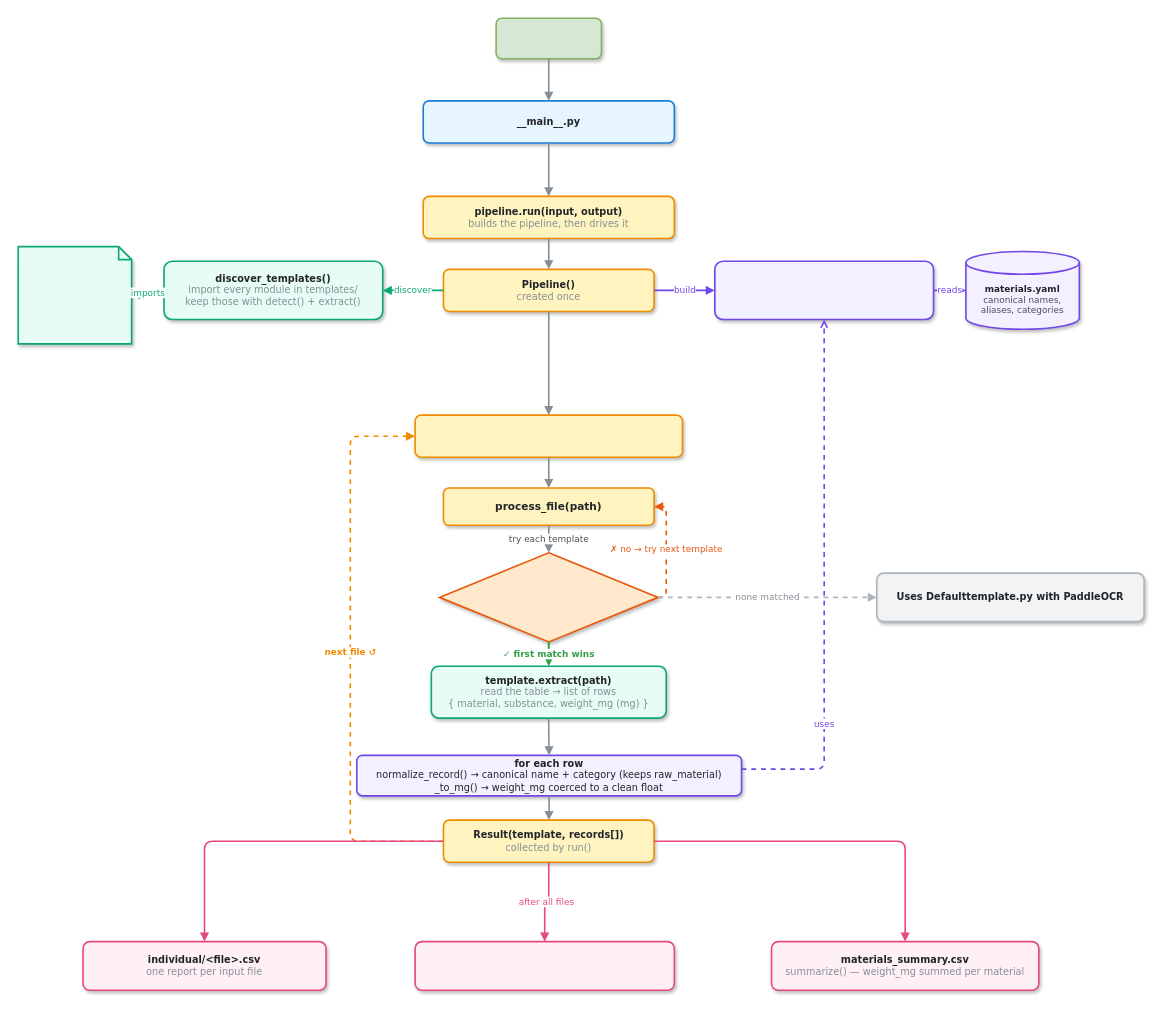
Image size: 1163x1010. Some labels were removed from this diagram. The shapes that lost their labels are listed below. From the top down, each one's centre as x and y in pixels, then its label:
At (549,39): "Start".
At (75,296): "templates/ template1.py template2.py … template14.py".
At (824,291): "Normalizer() load materials.yaml into alias → canonical + category".
At (549,437): "process_path() gather .pdf / .xlsx files → for each file ↓".
At (549,598): "template.detect(path) is this file this supplier’s format?".
At (545,966): "all_materials.csv every row, detailed (plain-decimal weights)".
